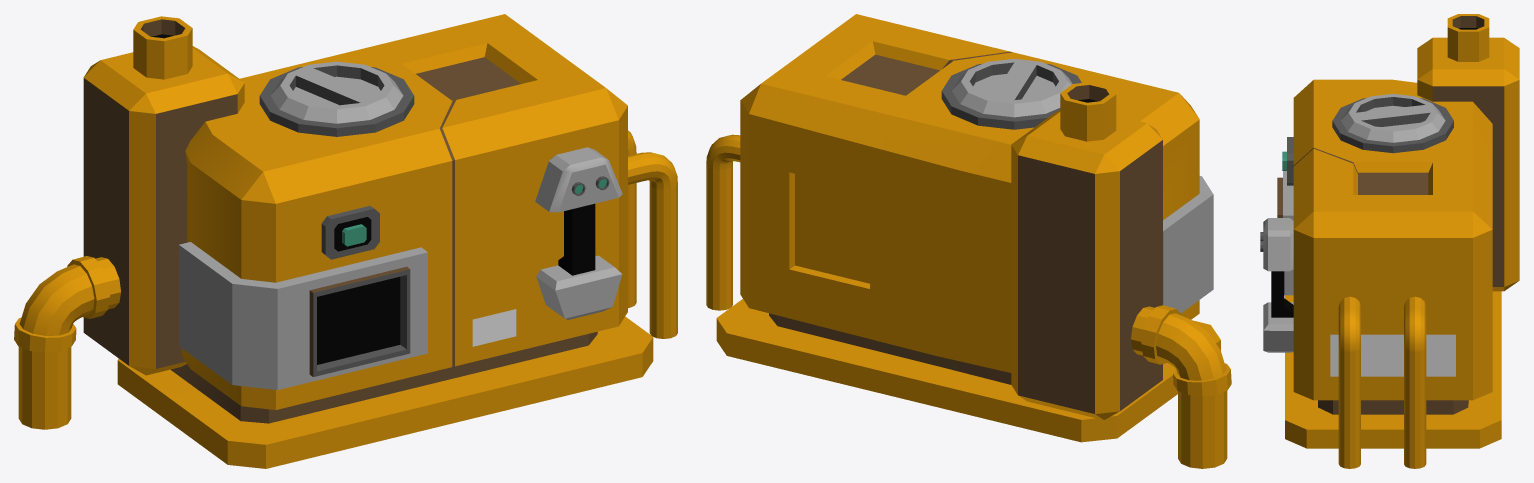
Rendered from machine tuyau.fbx.
The picture shows the model from 3 angles, left to right: view 1: azimuth 30°, elevation 25°; view 2: azimuth 150°, elevation 25°; view 3: azimuth 270°, elevation 25°; orthographic projection. The views are drawn at different scales.
Visible parts, largest first — view 1: machine_tuyau; view 2: machine_tuyau; view 3: machine_tuyau.
Part boxes in pixels (x1,y1,x2,y2): machine_tuyau: (14,14,677,468); machine_tuyau: (706,14,1231,468); machine_tuyau: (1260,14,1519,468).
Size of the model in its own units: 2.66 by 1.56 by 1.3.
